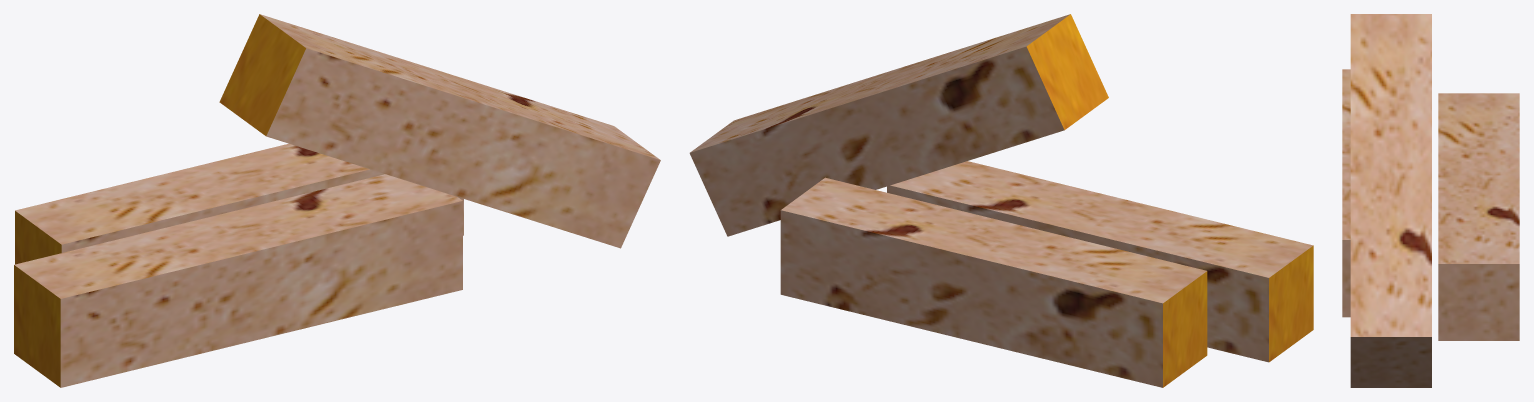
File: ChoppedCha.fbx
3 renders of one model, left to right at view 1: azimuth 30°, elevation 25°; view 2: azimuth 150°, elevation 25°; view 3: azimuth 270°, elevation 25°, orthographic. The views are drawn at different scales.
Parts seen in each view (by area): view 1: Chas; view 2: Chas; view 3: Chas.
Part boxes in pixels (left/top/right/bottom): Chas: left=14, top=14, right=660, bottom=387; Chas: left=689, top=14, right=1313, bottom=387; Chas: left=1342, top=14, right=1519, bottom=387.
Bounding box in the file's own units: 10.65 × 4.66 × 3.11.
2 materials, 2 textured.
